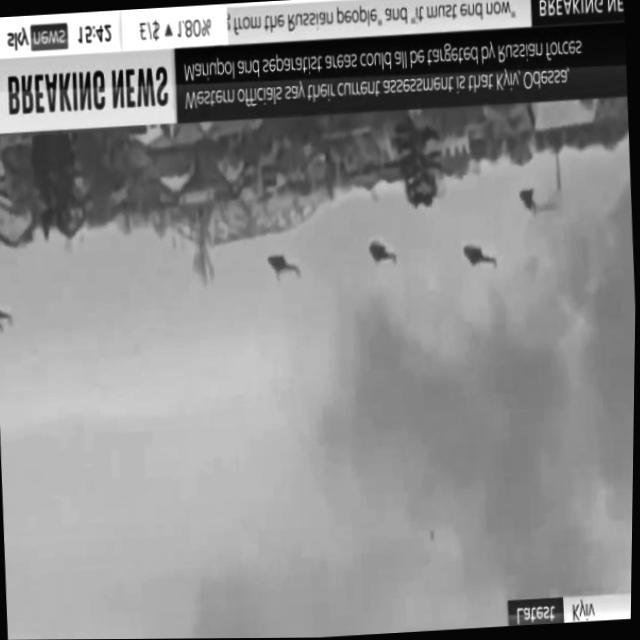helikopter: (258, 226, 315, 312), (352, 214, 414, 293), (453, 226, 504, 295), (0, 287, 35, 363)
